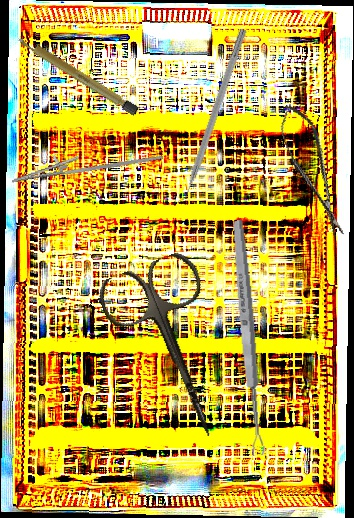Chopper: (168, 25, 248, 209)
Iris Scissors: (93, 247, 255, 456)
Micro Scissor: (273, 98, 352, 244)
Needle Holder: (8, 125, 164, 202)
Scalpel Handle: (14, 32, 141, 117)
Surgical Spoon: (229, 219, 267, 457)
